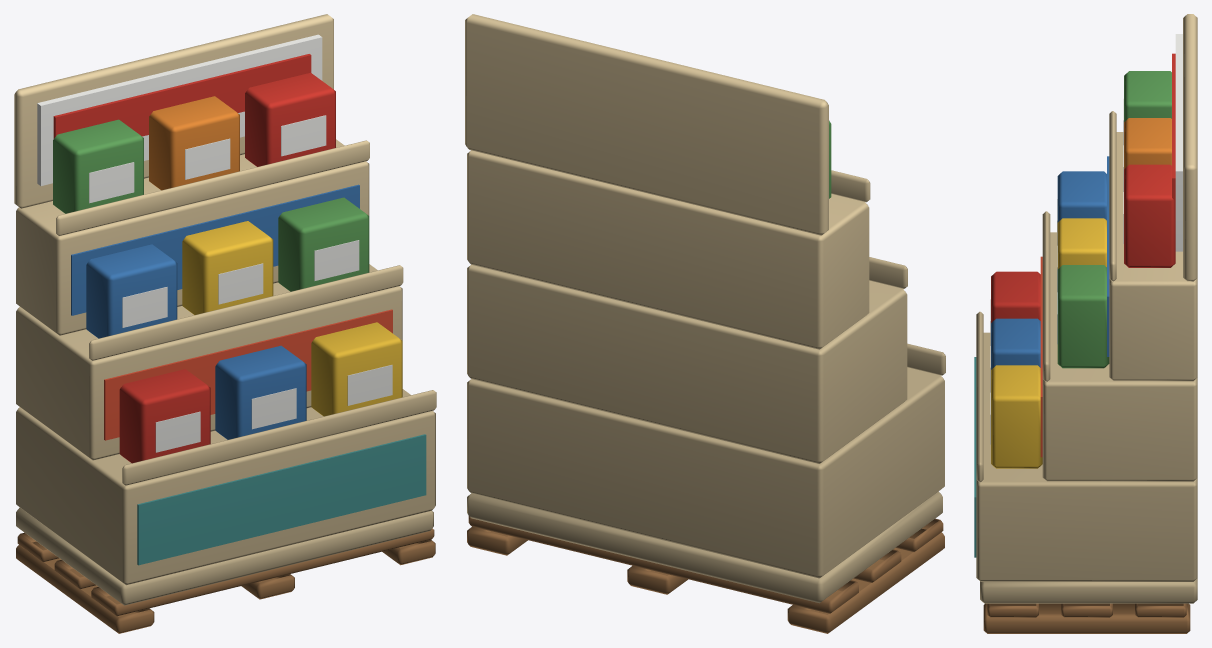
The model's file is PalletDisplay_Half_01.glb.
3 views of the same model, side by side, from view 1: azimuth 30°, elevation 25°; view 2: azimuth 150°, elevation 25°; view 3: azimuth 270°, elevation 25° (orthographic). The views are drawn at different scales.
Parts seen in each view (by area): view 1: SM_PalletDisplay_Half_01; view 2: SM_PalletDisplay_Half_01; view 3: SM_PalletDisplay_Half_01.
Part boxes in pixels (bbox=[...]): SM_PalletDisplay_Half_01: bbox=[14, 14, 436, 633]; SM_PalletDisplay_Half_01: bbox=[465, 14, 945, 633]; SM_PalletDisplay_Half_01: bbox=[974, 14, 1197, 633].
Size of the model in its own units: 1 by 1.4 by 0.606.
1 material, 1 textured.
